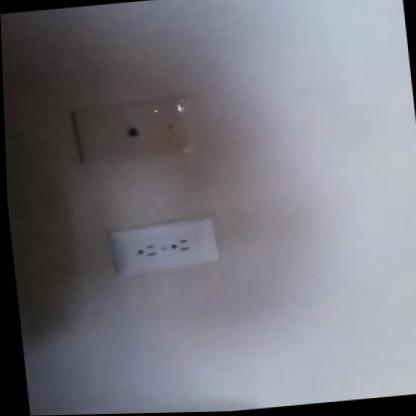OUTLET: (114, 216, 217, 276)
